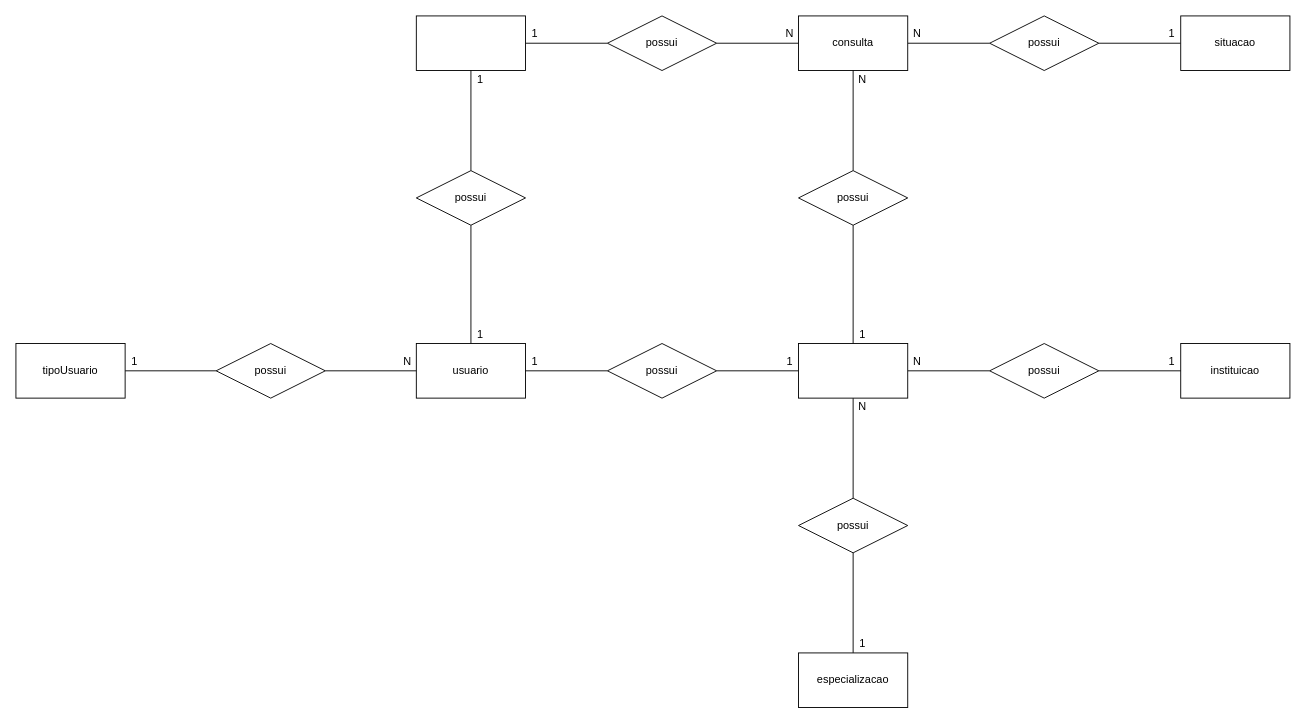
This 1306x723 diagram has some shape labels left out. The centre of each missing label's shape, as x and y in pixels:
medico: pixel 853 370
paciente: pixel 470 43
